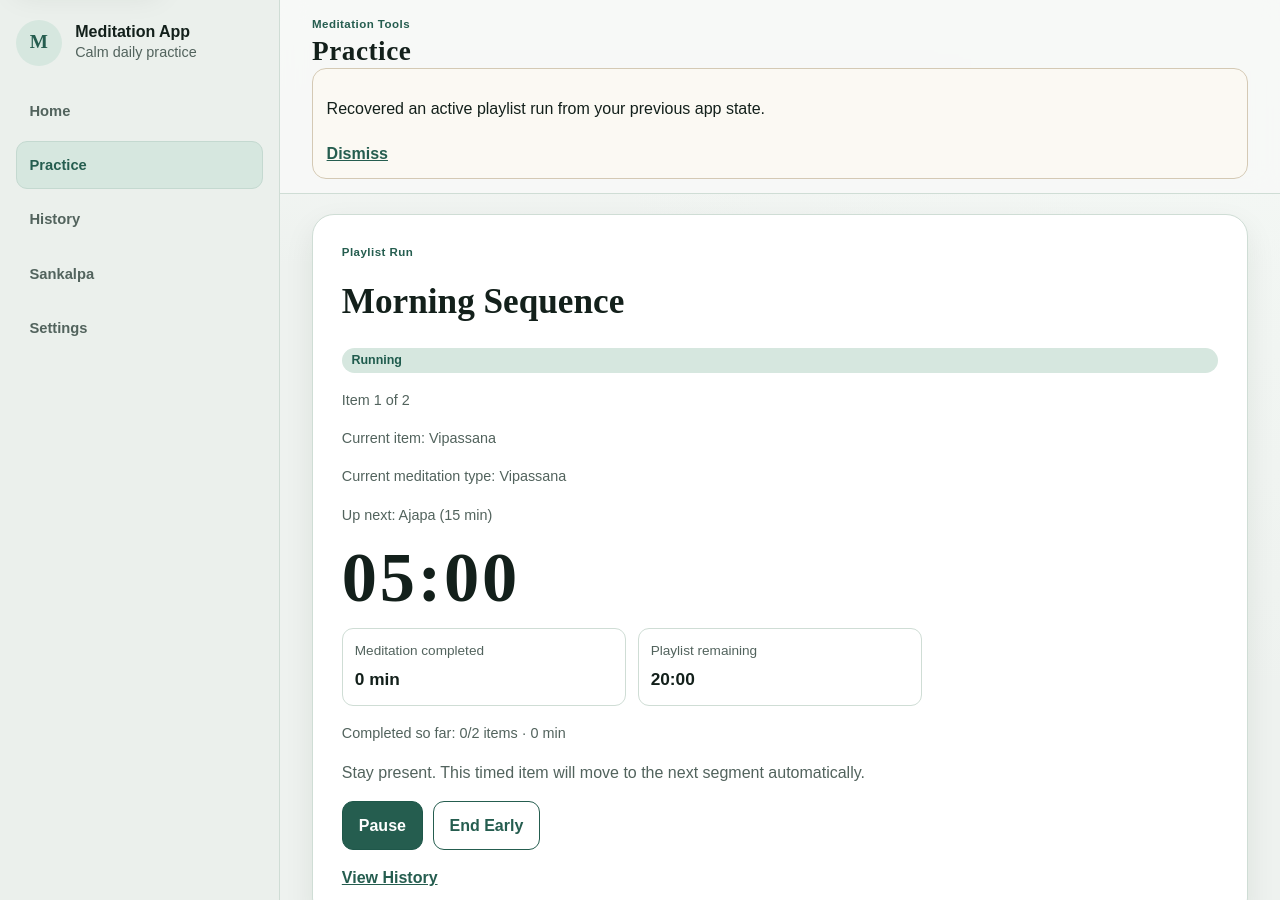
Test: PlaylistRunPage UX › ends an active playlist run early, logs progress, and keeps history continuity
Expected: the text "Current meditation type: Vipassana" is shown, [342,468,566,484]
Expected: the text "Up next: Ajapa (15 min)" is shown, [342,507,492,523]
Click the button "End Early". click: coordinates (486, 826)
box: [432,802,540,850]
(page scrolled)
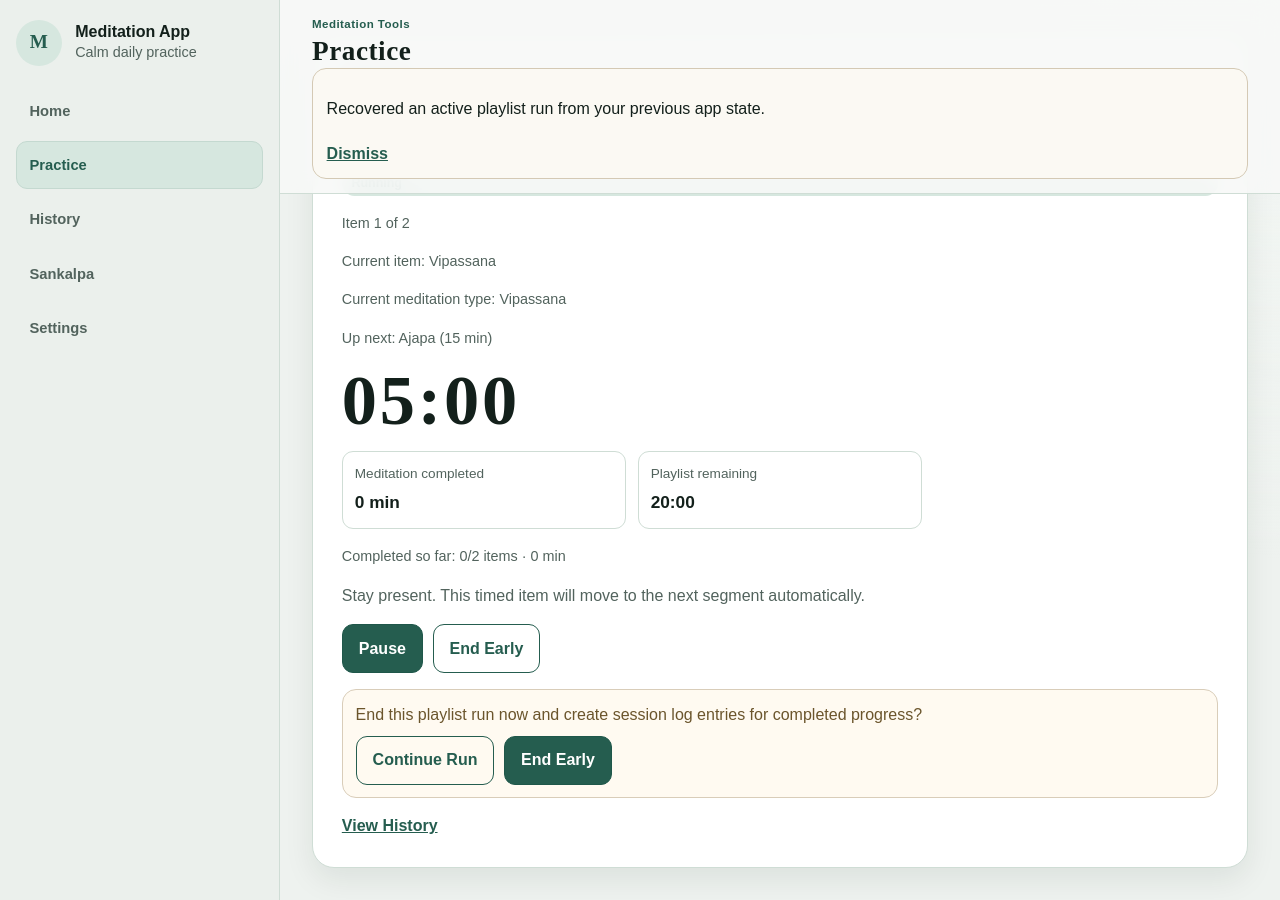
Now the dialog named "end playlist early confirmation" is shown, box [342,689,1218,798]
Click the 2nd button "End Early". click: coordinates (558, 760)
box: [504,736,612,785]
(page scrolled)
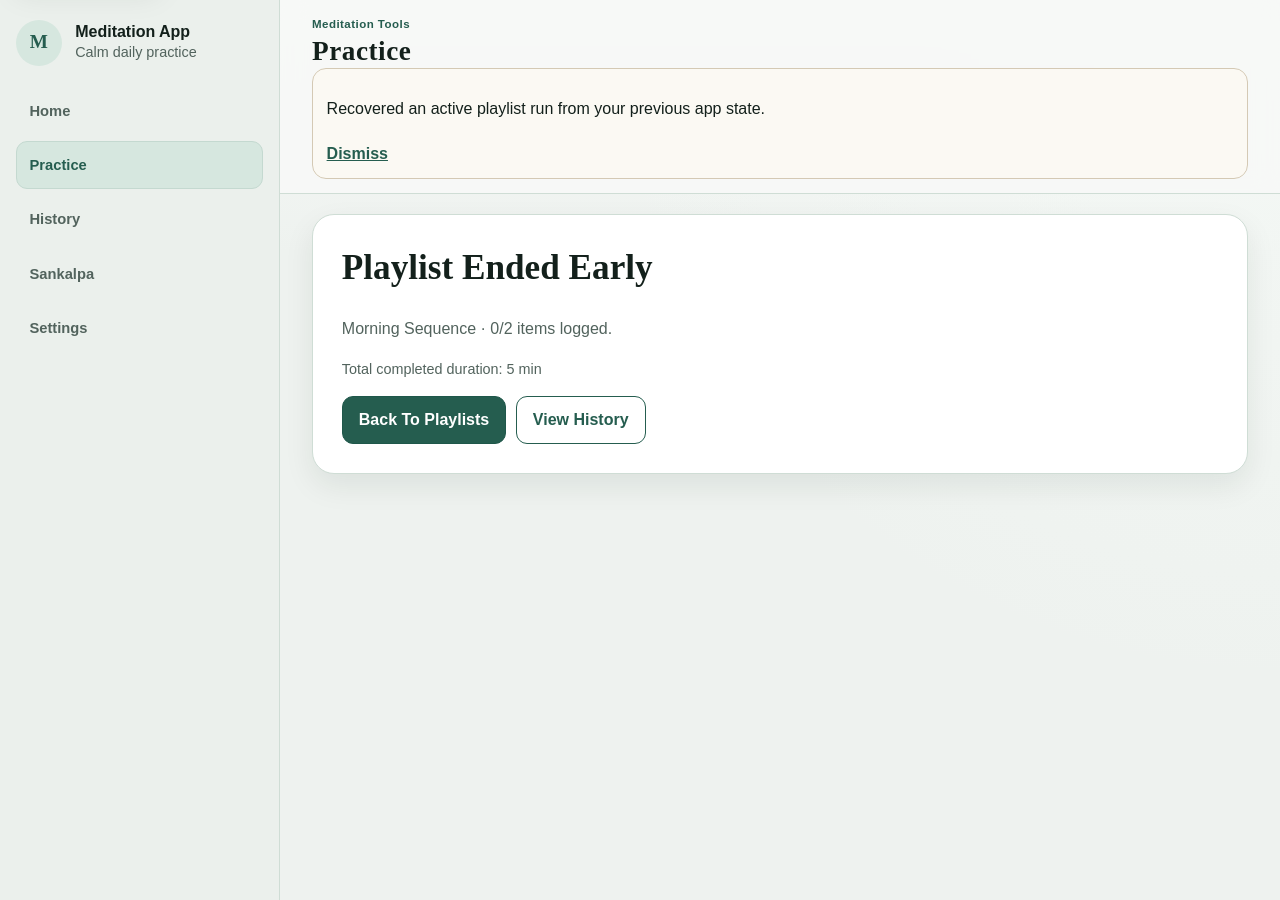
Now the heading "Playlist Ended Early" is shown, box [342,248,653,287]
Now the text "Total completed duration: 5 min" is shown, box [342,360,542,376]
Click the button "View History". click: coordinates (581, 420)
box: [516,396,646,444]
(page scrolled)
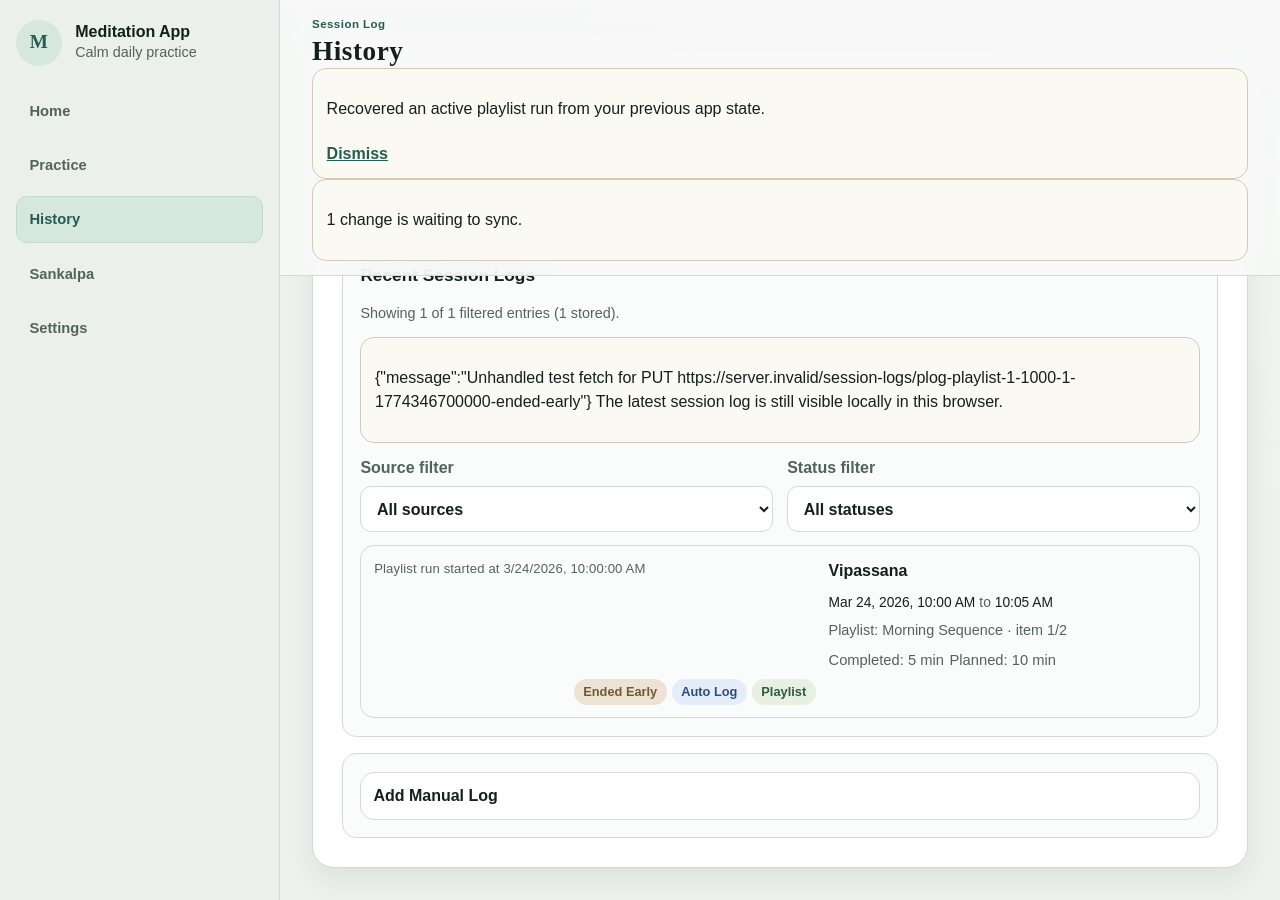
Now the heading "History" is shown, box [312,36,403,66]
Now the text "Playlist run started at 3/24/2026, 10:00:00 AM" is shown, box [374,560,646,576]
Now the text "Playlist: Morning Sequence · item 1/2" is shown, box [828,622,1067,638]
